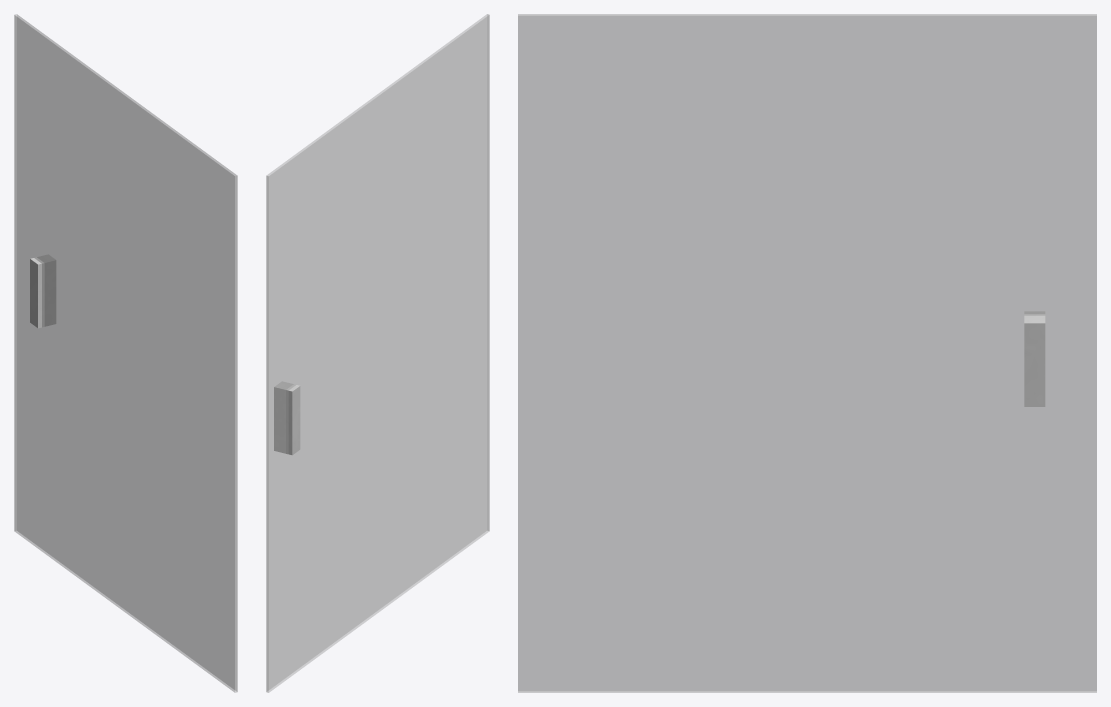
File: SM_实验室台秤01.fbx
3 views of the same model, side by side, from view 1: azimuth 30°, elevation 25°; view 2: azimuth 150°, elevation 25°; view 3: azimuth 270°, elevation 25° (orthographic). The views are drawn at different scales.
Visible parts, largest first — view 1: SM_实验室台秤01; view 2: SM_实验室台秤01; view 3: SM_实验室台秤01.
Part boxes in pixels (box(x1,y1,x2,y2)): SM_实验室台秤01: box(14, 14, 237, 692); SM_实验室台秤01: box(266, 14, 489, 692); SM_实验室台秤01: box(518, 14, 1096, 692).
Size of the model in its own units: 0.00873 by 0.2348 by 0.1819.
